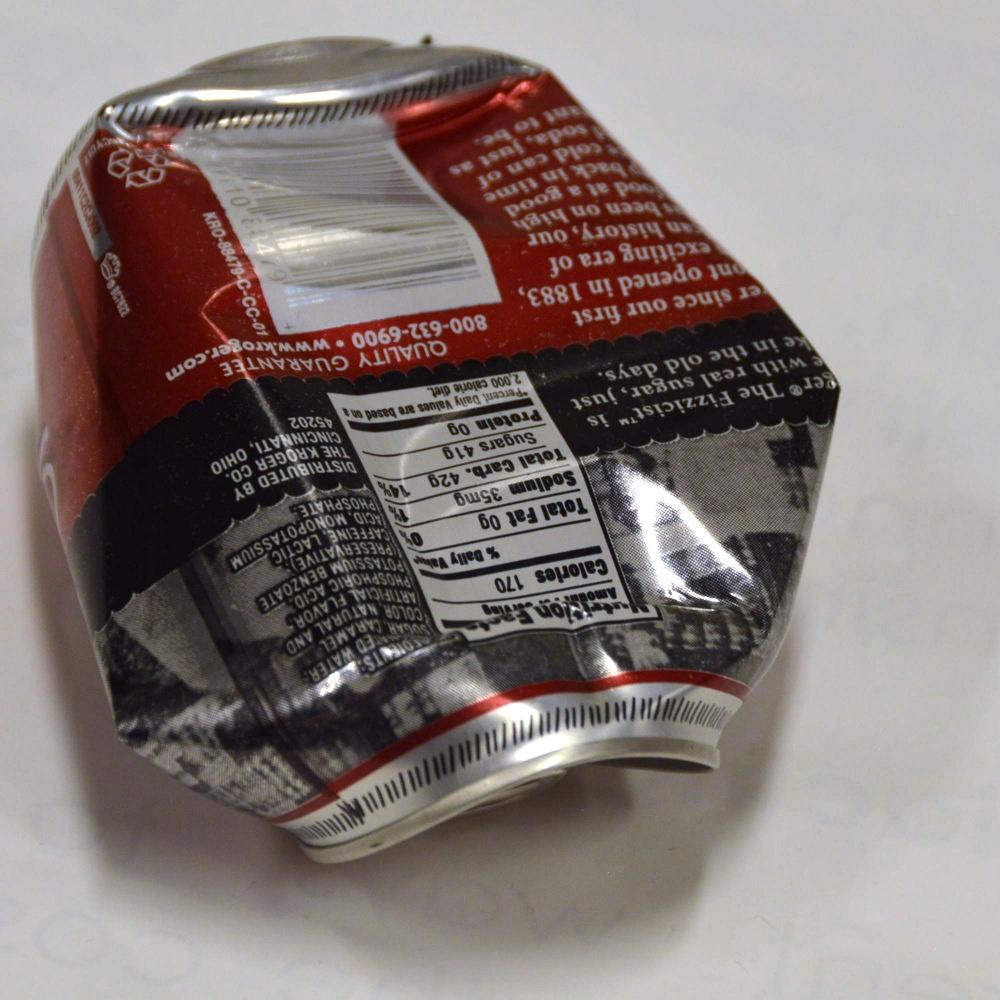Metal: (20, 25, 845, 907)
